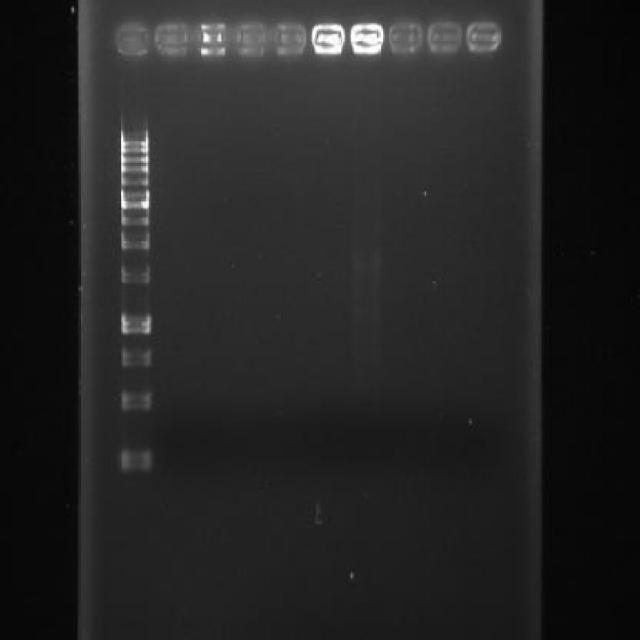L: (107, 12, 506, 68)
M: (109, 94, 162, 488)
P: (116, 444, 156, 476), (116, 385, 152, 413), (118, 344, 154, 372), (117, 310, 154, 336), (116, 263, 152, 286), (116, 124, 152, 147), (116, 188, 155, 209), (118, 230, 152, 252), (116, 210, 152, 230), (116, 174, 152, 188), (116, 154, 153, 164), (116, 162, 152, 172), (114, 147, 154, 155)
Pc: (153, 18, 190, 60), (112, 19, 151, 58), (348, 19, 386, 59), (426, 16, 464, 55), (271, 19, 307, 59), (466, 16, 502, 56), (386, 19, 424, 56), (310, 20, 346, 58), (194, 19, 228, 59), (234, 19, 266, 59)
